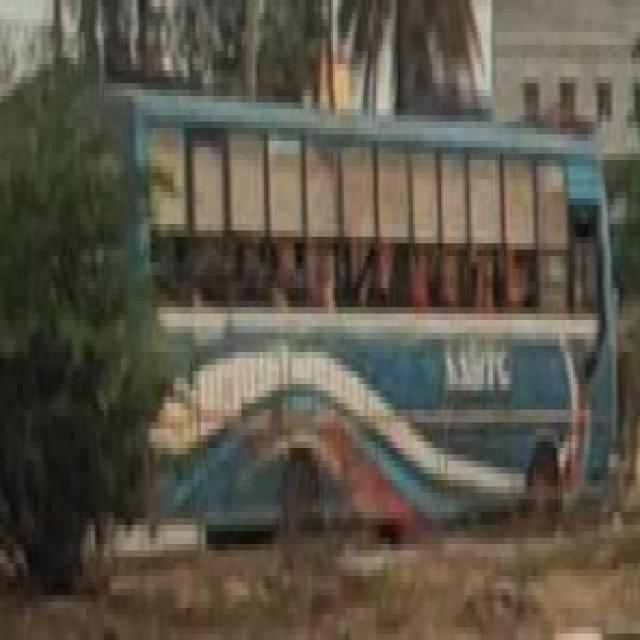bus: (30, 64, 623, 589)
